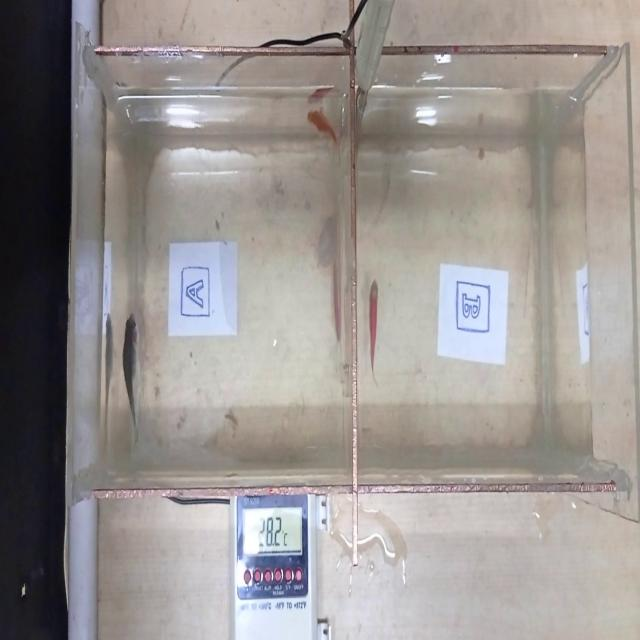Fish A1: (116, 289, 148, 459)
Fish A2: (300, 100, 348, 171)
Fish A3: (323, 237, 345, 365)
Fish B: (363, 274, 391, 392)
